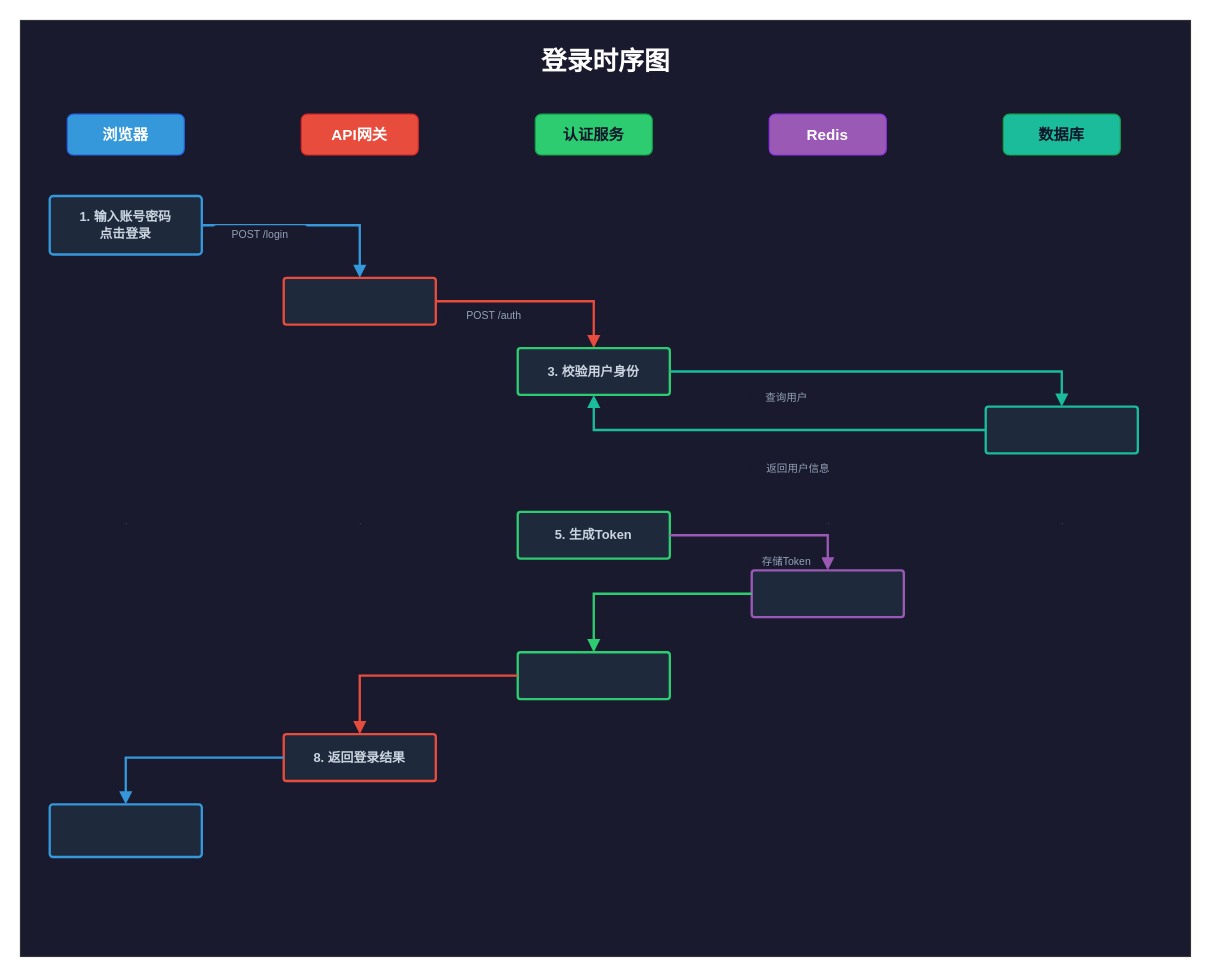
Some shapes in this 1211 by 977 pixel diagram are drawn without their labels. Here are the shapes that lost their labels. From the top down, the centre of each, then its label:
point (359, 300): 2. 转发登录请求
point (1061, 429): 4. 查询用户信息
point (827, 593): 6. 缓存Token
point (593, 675): 7. 返回Token
point (125, 830): 9. 登录成功 跳转首页
